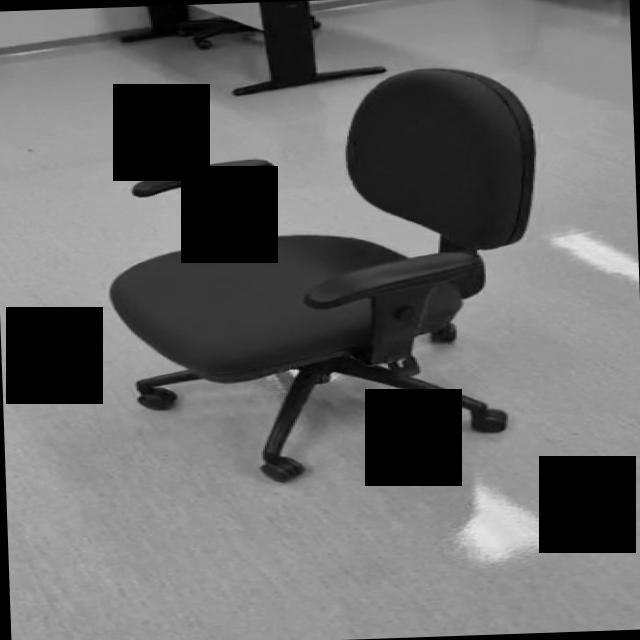chair: (102, 64, 550, 489)
